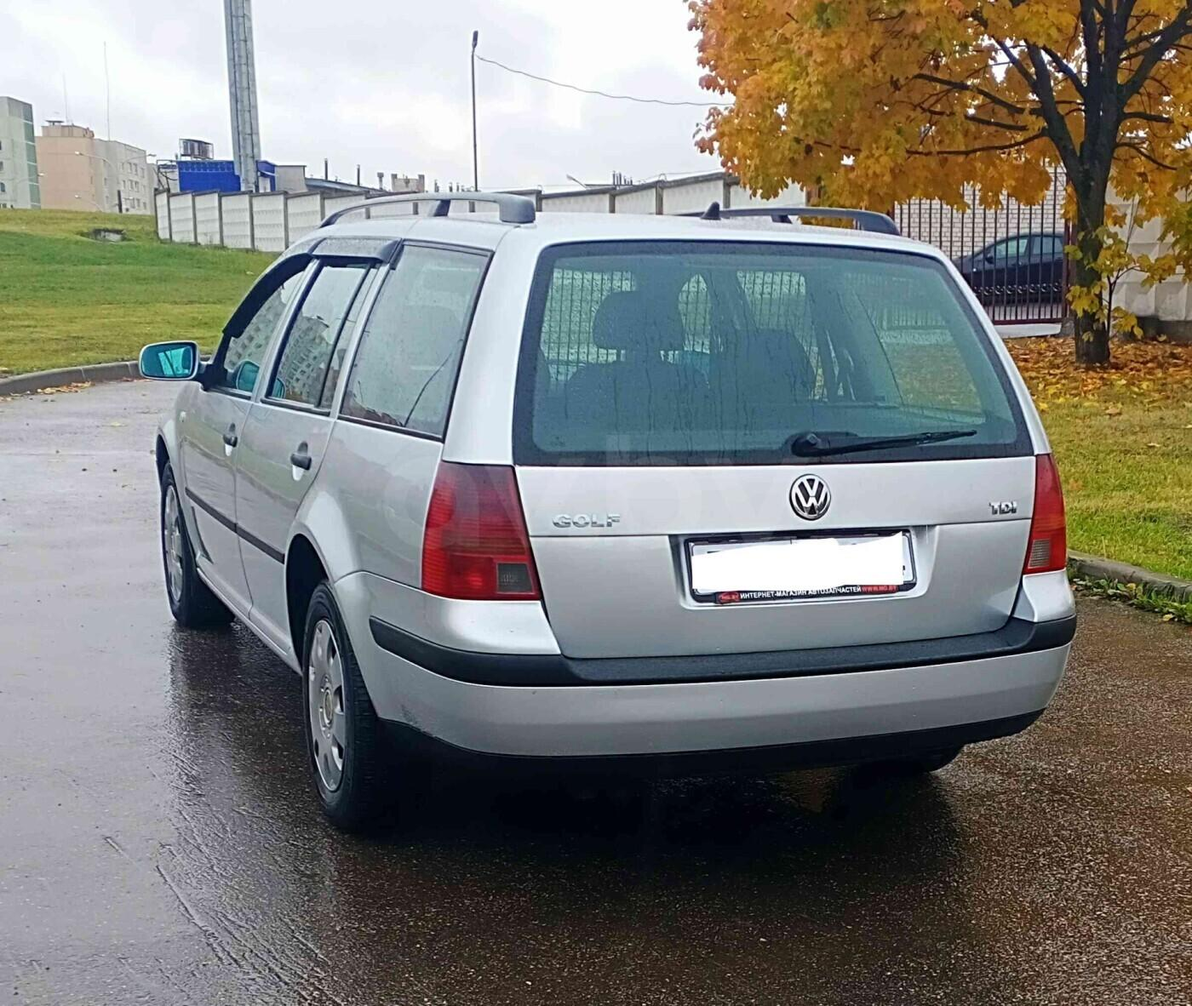Golf_1997-2006: (143, 211, 1076, 824)
